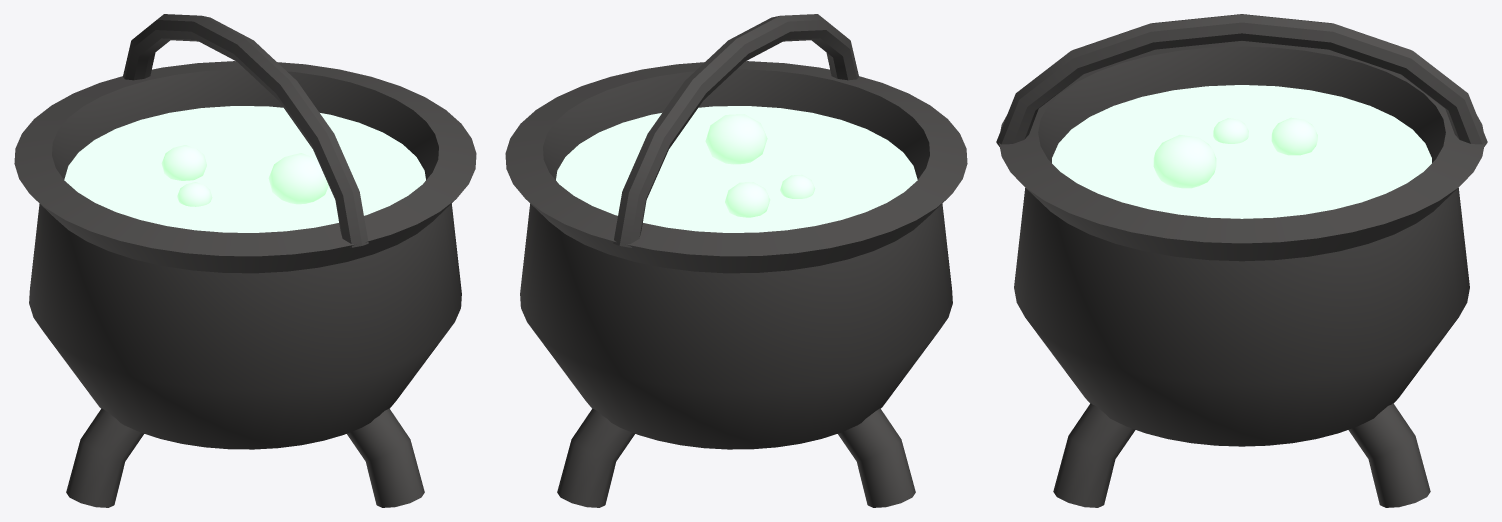
Rendered from top_cauldron.fbx.
3 renders of one model, left to right at view 1: azimuth 30°, elevation 25°; view 2: azimuth 150°, elevation 25°; view 3: azimuth 270°, elevation 25°, orthographic. The views are drawn at different scales.
Visible parts, largest first — view 1: iron_1, glow_green_1; view 2: iron_1, glow_green_1; view 3: iron_1, glow_green_1.
Boxes of the visible parts, <box> form: iron_1: <box>14,14,476,507</box>; glow_green_1: <box>64,106,425,232</box>; iron_1: <box>505,14,967,507</box>; glow_green_1: <box>556,106,917,232</box>; iron_1: <box>996,14,1487,507</box>; glow_green_1: <box>1052,85,1431,218</box>.
Size of the model in its own units: 0.041 by 0.0419 by 0.0414.
